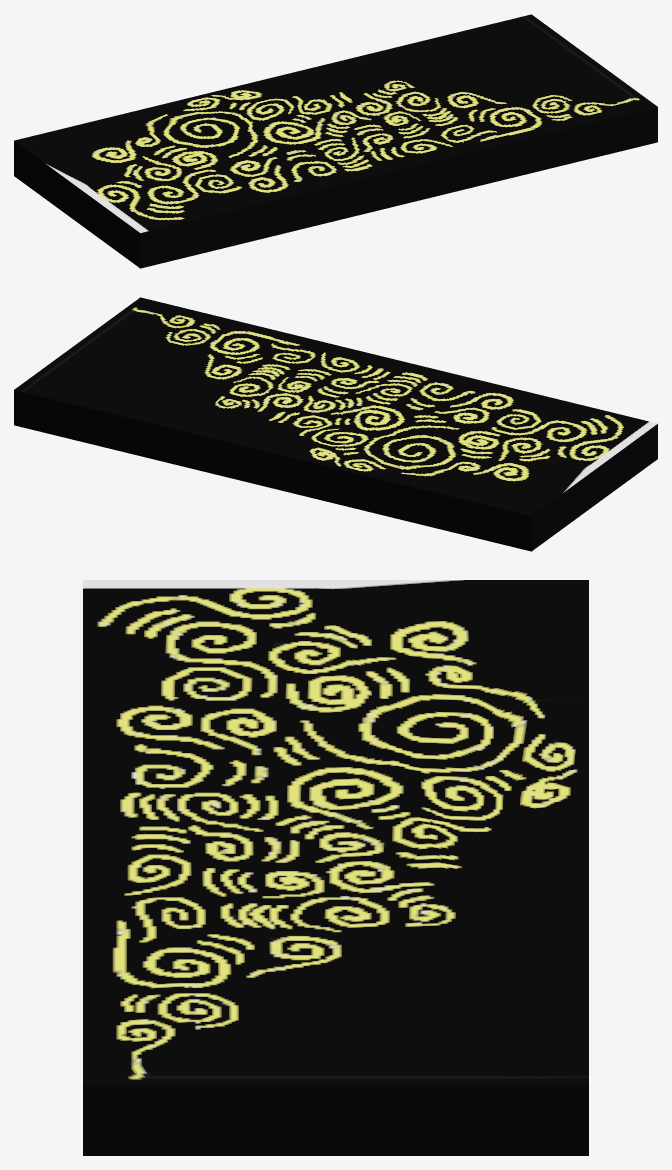
File: CharSkyKid_Prop_MoonlightMural_Cloud04.glb
3 renders of one model, top to bottom at view 1: azimuth 30°, elevation 25°; view 2: azimuth 150°, elevation 25°; view 3: azimuth 270°, elevation 25°, orthographic. The views are drawn at different scales.
Parts seen in each view (by area): view 1: CharSkyKid_Prop_MoonlightMural_Cloud04; view 2: CharSkyKid_Prop_MoonlightMural_Cloud04; view 3: CharSkyKid_Prop_MoonlightMural_Cloud04.
Part boxes in pixels (x1,y1,x2,y2): CharSkyKid_Prop_MoonlightMural_Cloud04: (14, 14, 657, 268); CharSkyKid_Prop_MoonlightMural_Cloud04: (14, 297, 657, 551); CharSkyKid_Prop_MoonlightMural_Cloud04: (83, 580, 588, 1155).
Size of the model in its own units: 1 by 0.0654 by 0.4232.
Materials: 1 (1 with a texture image).
